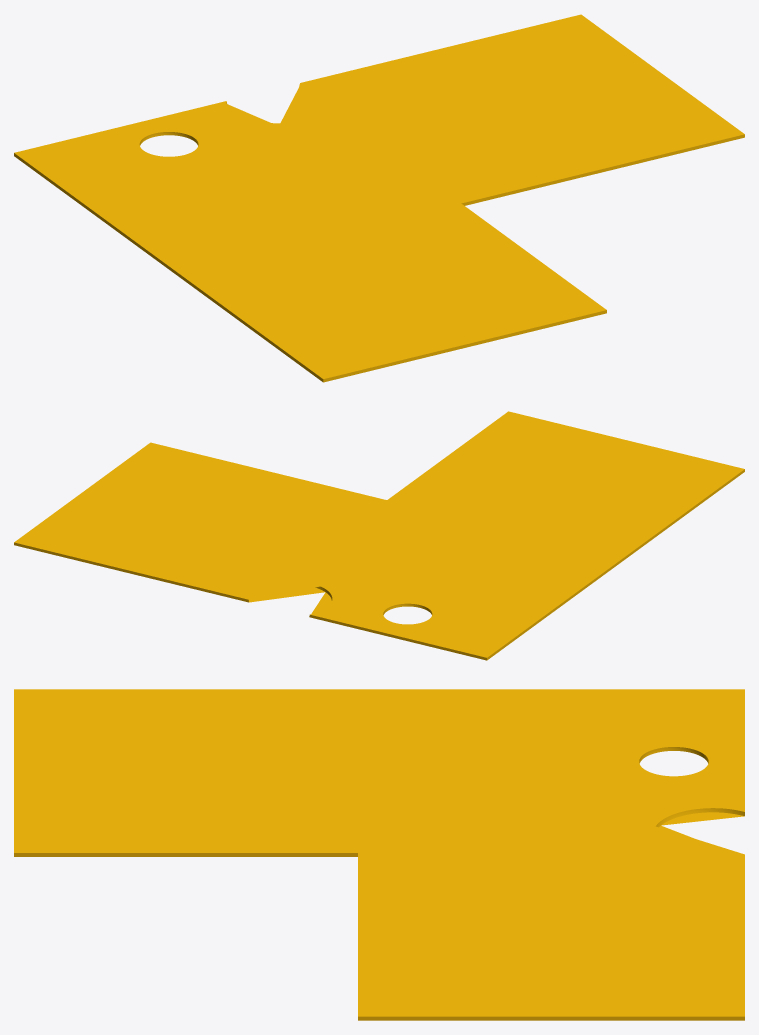
3 renders of one model, top to bottom at view 1: azimuth 30°, elevation 25°; view 2: azimuth 150°, elevation 25°; view 3: azimuth 270°, elevation 25°, orthographic. The views are drawn at different scales.
Visible parts, largest first — view 1: LEVEL, LEVEL Level_3; view 2: LEVEL, LEVEL Level_3; view 3: LEVEL, LEVEL Level_3.
Part boxes in pixels (left/top/right/bottom): LEVEL: left=14, top=14, right=744, bottom=382; LEVEL Level_3: left=220, top=79, right=365, bottom=139; LEVEL: left=14, top=411, right=744, bottom=660; LEVEL Level_3: left=236, top=565, right=357, bottom=618; LEVEL: left=14, top=689, right=744, bottom=1020; LEVEL Level_3: left=623, top=808, right=744, bottom=862.
Size of the model in its own units: 90 by 0.5 by 85.
